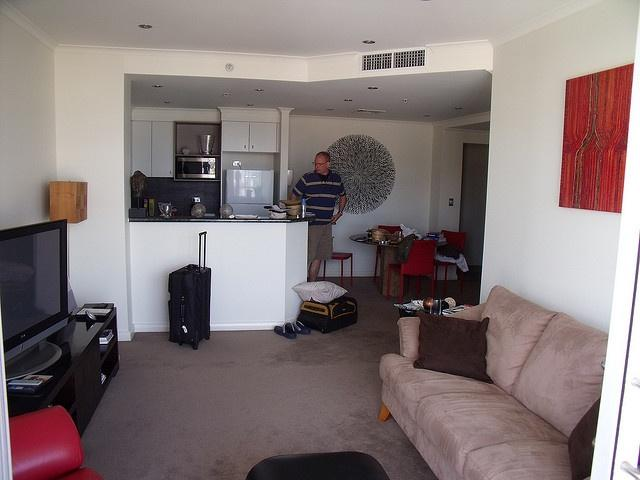AIO PC-Monitor-TV: (0, 217, 68, 382)
